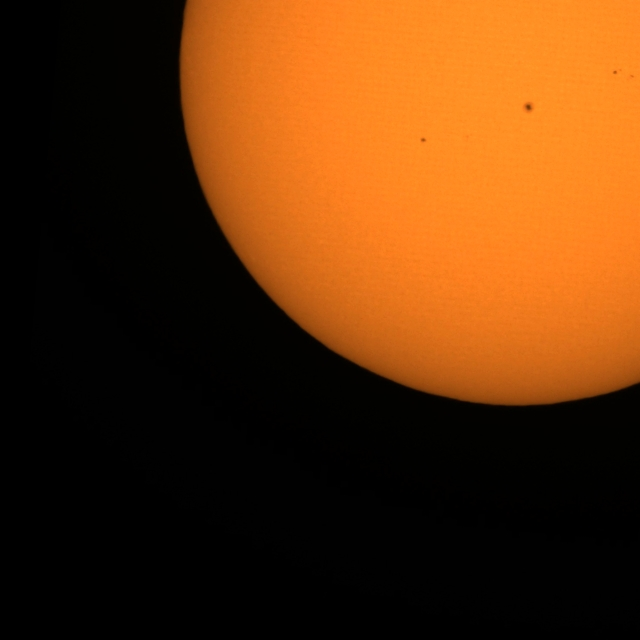sunspot: (612, 68, 634, 79), (522, 101, 535, 114), (612, 68, 624, 76), (419, 136, 427, 144), (628, 73, 636, 80)
